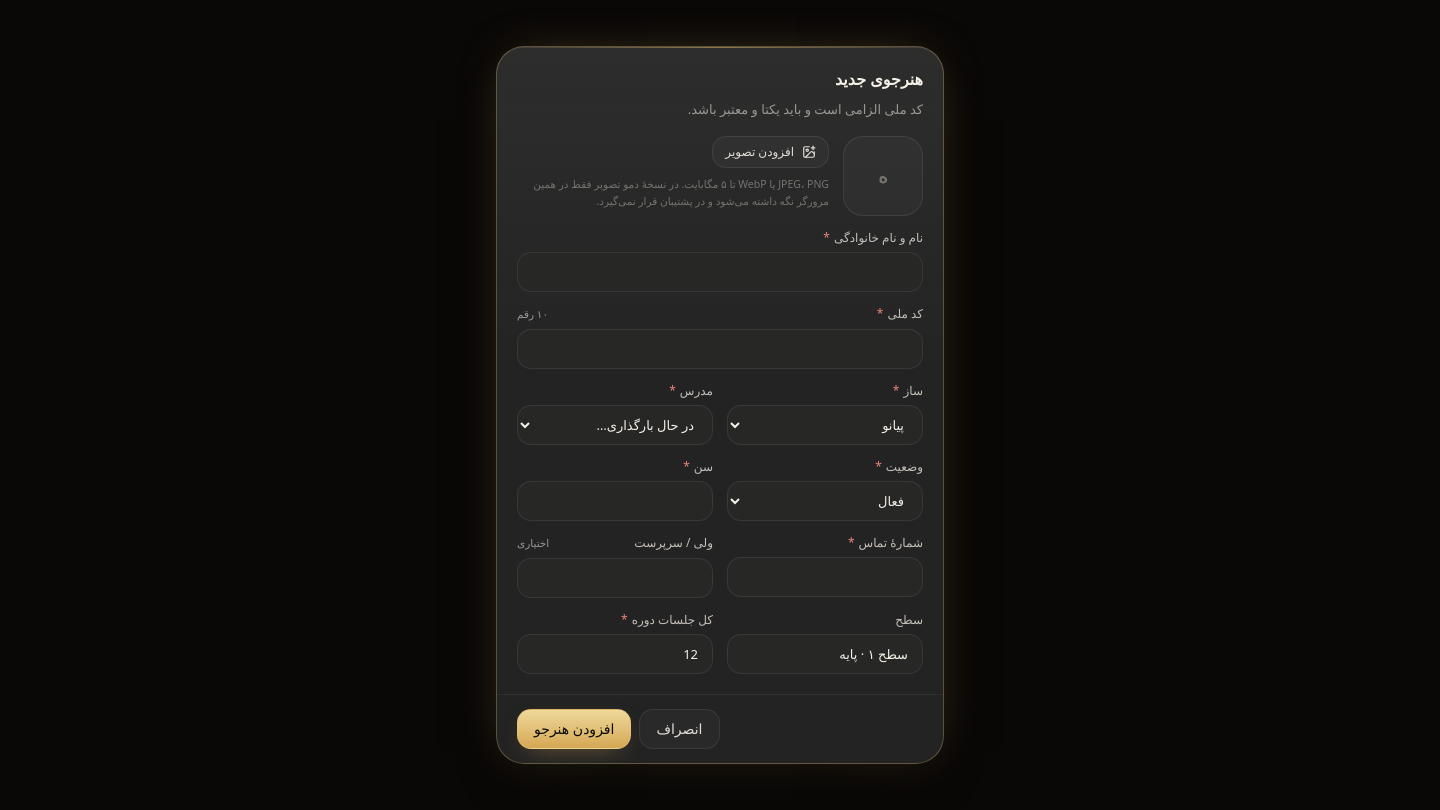
Test: student create dialog › requires a name and a teacher
Click the button "افزودن هنرجو": click(574, 729) left=517, top=709, right=632, bottom=749
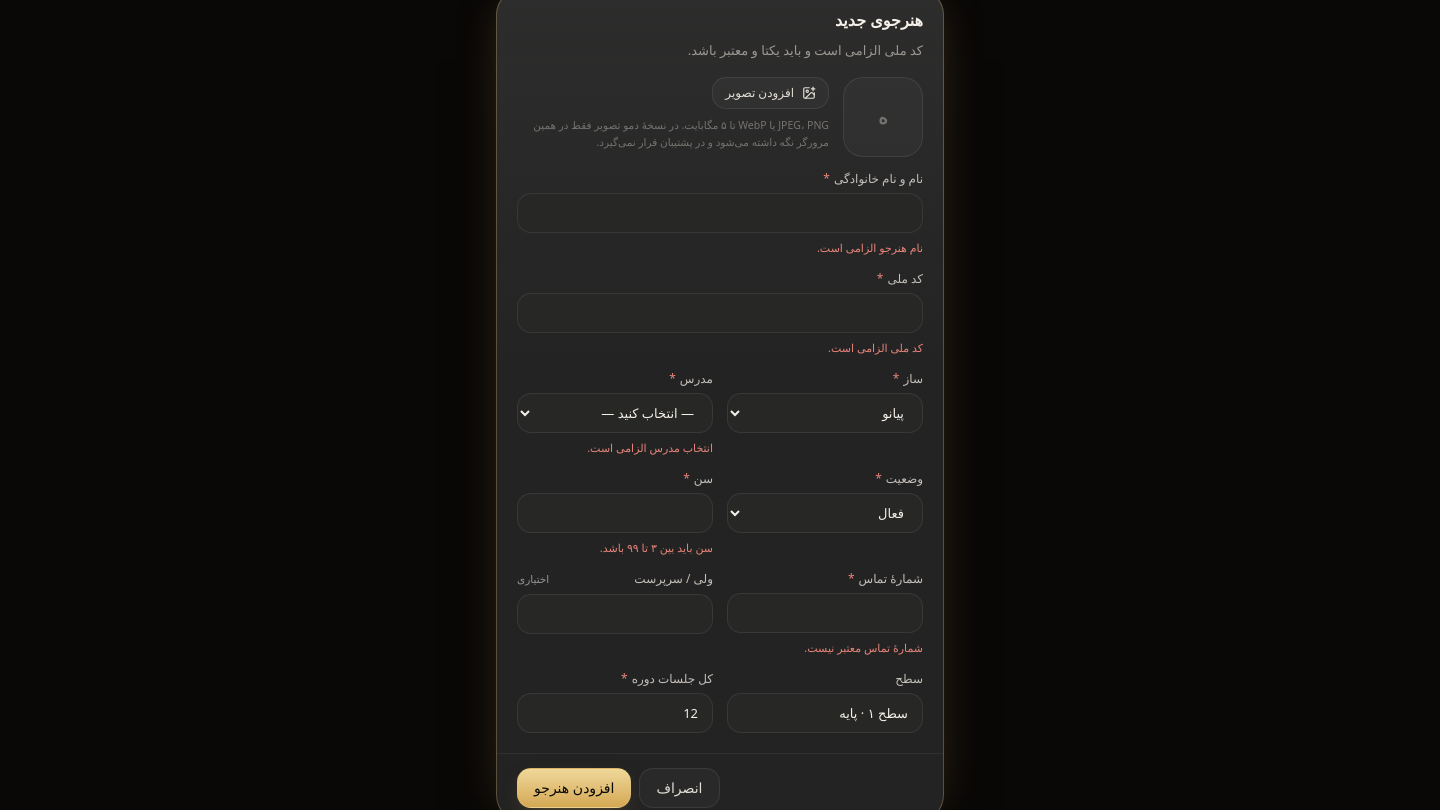
Expected: the text "نام هنرجو الزامی است." is shown, left=817, top=240, right=923, bottom=255
